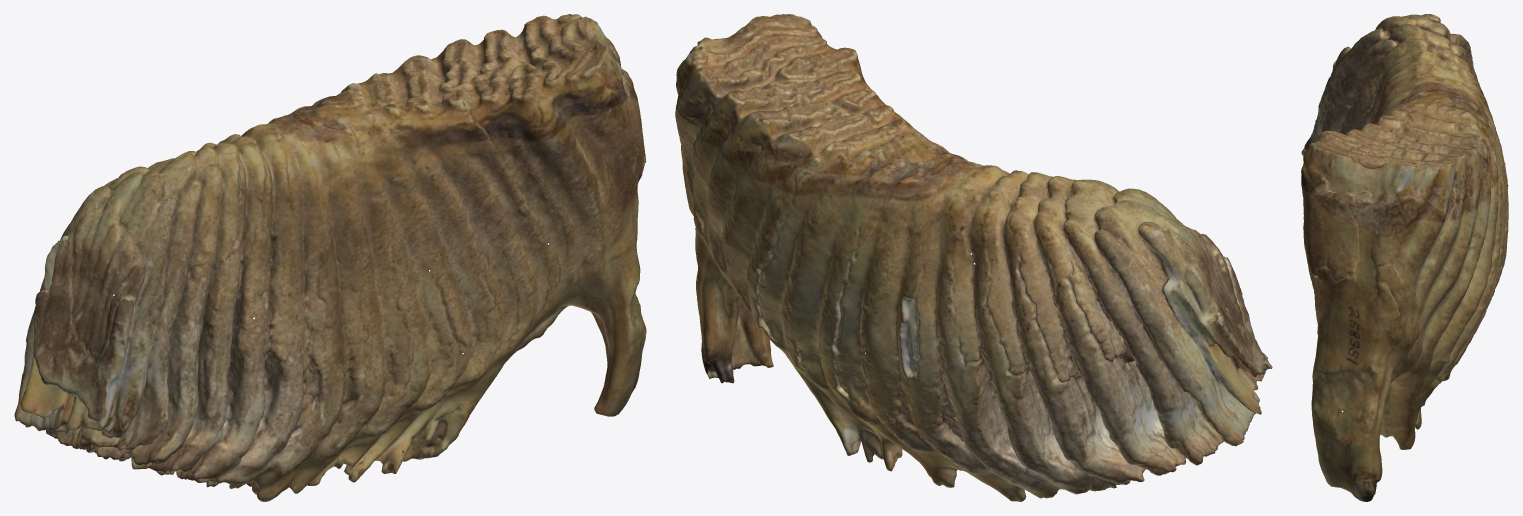
The picture shows the model from 3 angles, left to right: view 1: azimuth 30°, elevation 25°; view 2: azimuth 150°, elevation 25°; view 3: azimuth 270°, elevation 25°; orthographic projection. The views are drawn at different scales.
Parts seen in each view (by area): view 1: tamanho; view 2: tamanho; view 3: tamanho.
Part boxes in pixels (left/top/right/bottom): tamanho: left=14, top=14, right=646, bottom=501; tamanho: left=675, top=14, right=1272, bottom=501; tamanho: left=1301, top=14, right=1508, bottom=501.
Bounding box in the file's own units: 8948 × 5594 × 2958.
1 material, 1 textured.
